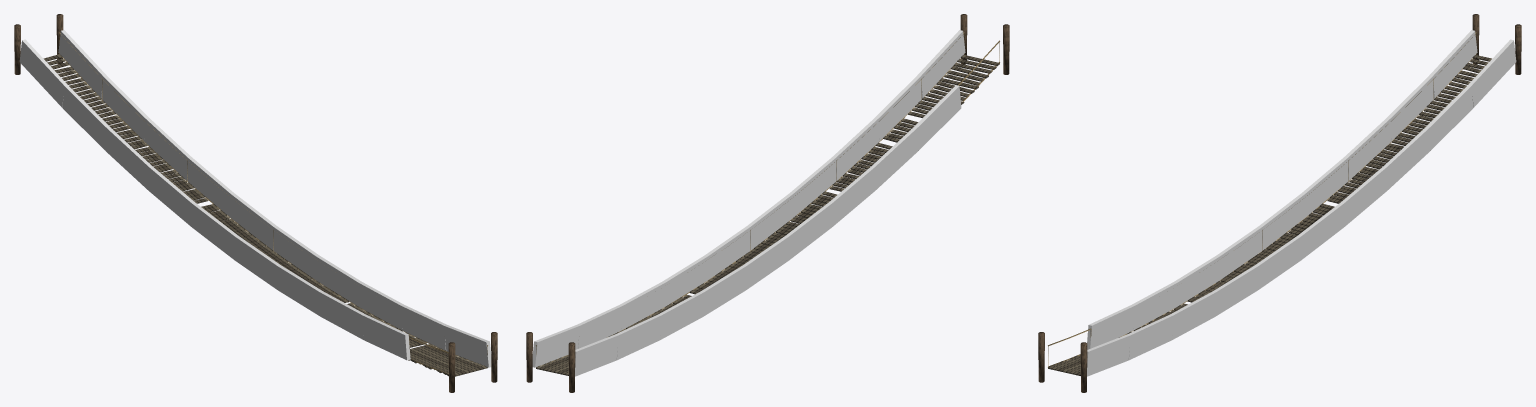
The model's file is rope_bridge_long.glb.
3 views of the same model, side by side, from view 1: azimuth 30°, elevation 25°; view 2: azimuth 150°, elevation 25°; view 3: azimuth 330°, elevation 25° (orthographic).
Parts seen in each view (by area): view 1: Planks, Rail-convcolonly.009, Rail-convcolonly.001, Rail-convcolonly.019, Rail-convcolonly.008, Posts, Rail-convcolonly.018, Rail-convcolonly.017, Rail-convcolonly.007, Rail-convcolonly.015, Rail-convcolonly.006, Rail-convcolonly.016 (+10 smaller); view 2: Planks, Rail-convcolonly.010, Posts, Rail-convcolonly.001, Rail-convcolonly.002, Rail-convcolonly.011, Rail-convcolonly.012, Rail-convcolonly.003, Rail-convcolonly.013, Rail-convcolonly.004, Rail-convcolonly.005, Rail-convcolonly.014 (+10 smaller); view 3: Planks, Rail-convcolonly.019, Rail-convcolonly.009, Rail-convcolonly.018, Posts, Rail-convcolonly.017, Rail-convcolonly.008, Rail-convcolonly.007, Rail-convcolonly.001, Rail-convcolonly.016, Rail-convcolonly.006, Rail-convcolonly.015 (+10 smaller).
Boxes of the visible parts, left/top/right/bottom form: Planks: left=43, top=54, right=487, bottom=376; Rail-convcolonly.009: left=19, top=39, right=67, bottom=107; Rail-convcolonly.001: left=362, top=314, right=410, bottom=360; Rail-convcolonly.019: left=58, top=30, right=106, bottom=97; Rail-convcolonly.008: left=62, top=85, right=110, bottom=150; Posts: left=14, top=14, right=497, bottom=392; Rail-convcolonly.018: left=101, top=75, right=148, bottom=140; Rail-convcolonly.017: left=144, top=118, right=191, bottom=180; Rail-convcolonly.007: left=105, top=127, right=152, bottom=190; Rail-convcolonly.015: left=230, top=193, right=276, bottom=250; Rail-convcolonly.006: left=148, top=167, right=195, bottom=226; Rail-convcolonly.016: left=187, top=157, right=233, bottom=217; Planks: left=536, top=55, right=999, bottom=375; Rail-convcolonly.010: left=917, top=30, right=965, bottom=97; Posts: left=526, top=14, right=1009, bottom=392; Rail-convcolonly.001: left=913, top=85, right=961, bottom=150; Rail-convcolonly.002: left=871, top=127, right=918, bottom=190; Rail-convcolonly.011: left=875, top=75, right=922, bottom=140; Rail-convcolonly.012: left=832, top=118, right=879, bottom=180; Rail-convcolonly.003: left=828, top=167, right=875, bottom=226; Rail-convcolonly.013: left=790, top=157, right=835, bottom=217; Rail-convcolonly.004: left=786, top=203, right=832, bottom=259; Rail-convcolonly.005: left=743, top=235, right=789, bottom=289; Rail-convcolonly.014: left=747, top=193, right=793, bottom=250; Planks: left=1048, top=55, right=1491, bottom=375; Rail-convcolonly.019: left=1468, top=39, right=1516, bottom=107; Rail-convcolonly.009: left=1429, top=30, right=1477, bottom=97; Rail-convcolonly.018: left=1425, top=85, right=1473, bottom=150; Posts: left=1038, top=14, right=1521, bottom=392; Rail-convcolonly.017: left=1383, top=127, right=1430, bottom=190; Rail-convcolonly.008: left=1387, top=75, right=1434, bottom=140; Rail-convcolonly.007: left=1344, top=118, right=1391, bottom=180; Rail-convcolonly.001: left=1087, top=305, right=1134, bottom=349; Rail-convcolonly.016: left=1340, top=167, right=1387, bottom=226; Rail-convcolonly.006: left=1302, top=157, right=1347, bottom=217; Rail-convcolonly.015: left=1298, top=203, right=1344, bottom=259.
Size of what is drawn, in the model's own units: 2.74 by 4.16 by 42.94.
Materials: 3 (3 with a texture image).
